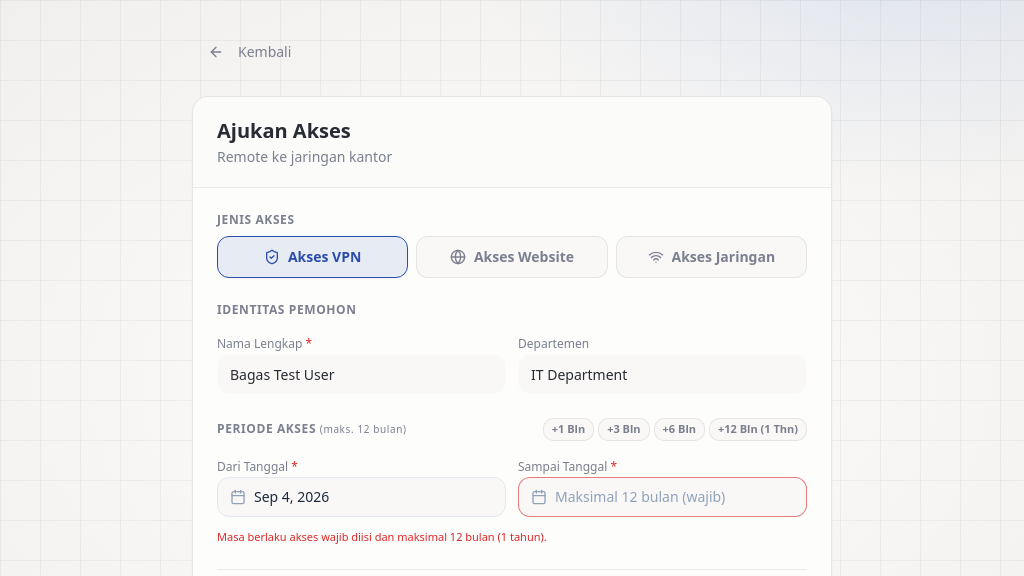
Test case: EformAccessCreatePage › supports quick duration presets for access period and enforces 12-month max on VPN
This screenshot has width=1024, height=576.
Check: the button "+1 Bln" is shown, box x1=543 y1=418 x2=594 y2=440
Check: the button "+3 Bln" is shown, box x1=598 y1=418 x2=650 y2=440
# Click +12 Bln (1 Thn)
Step 1. Click the button "+12 Bln (1 Thn)" → (758, 429), box x1=709 y1=418 x2=807 y2=440
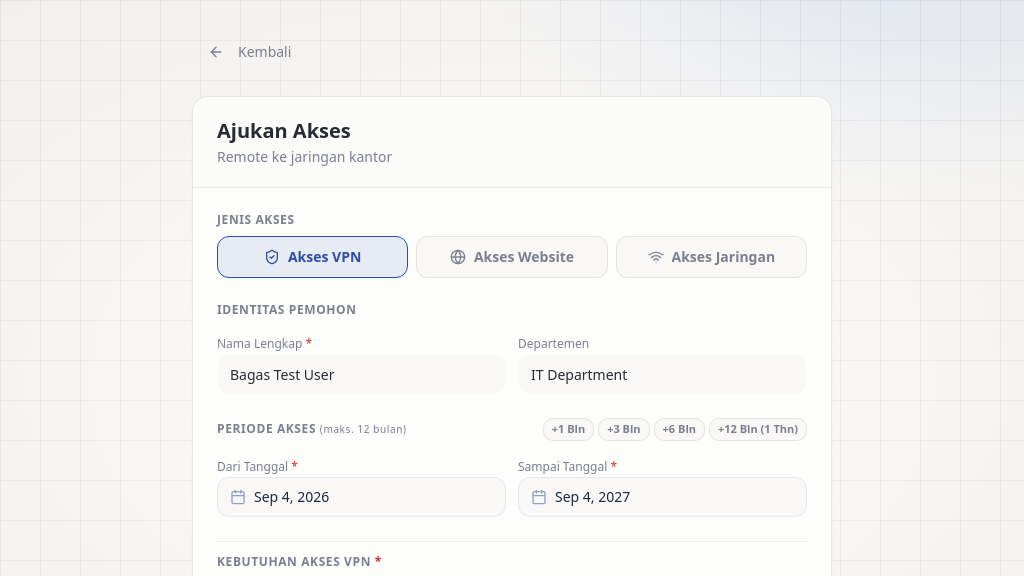
# Switch to Website
Step 2. Click the button "Akses Website" → (512, 257), box x1=416 y1=236 x2=608 y2=278
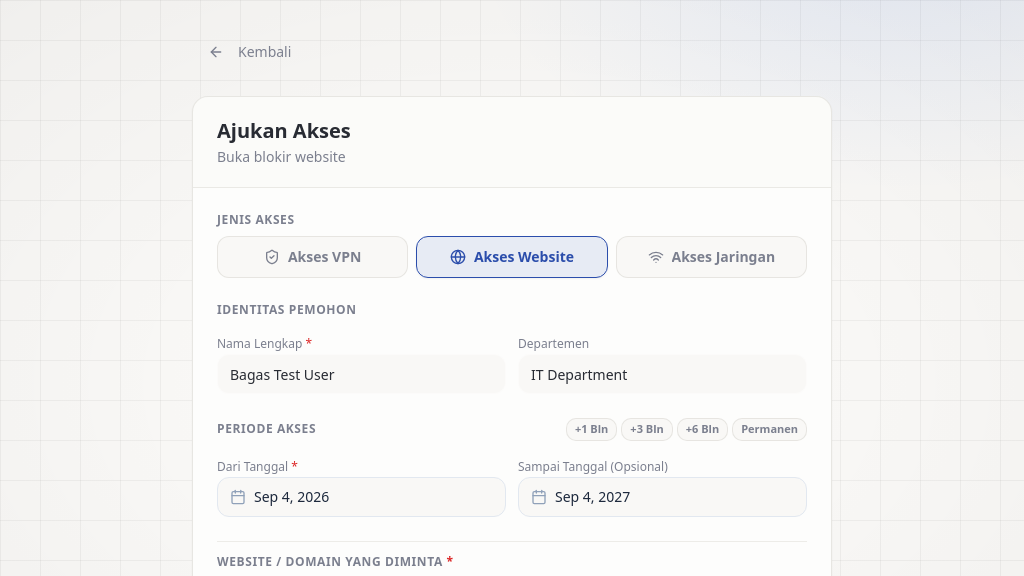
Check: the button "Permanen" is shown
Step 3. Click the button "Permanen" → (770, 429), box x1=732 y1=418 x2=807 y2=440
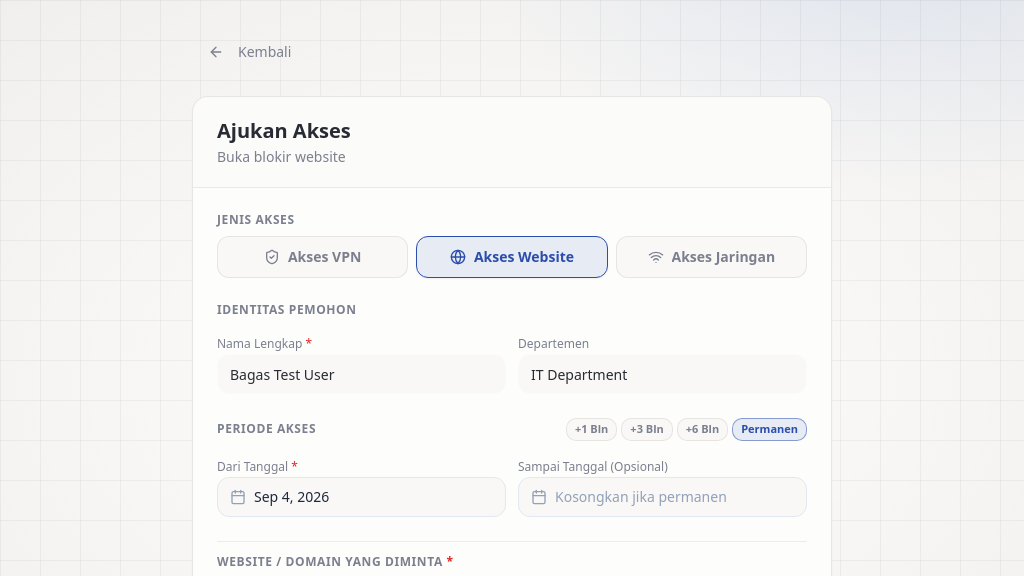
Check: the text "Kosongkan jika permanen" is shown, box x1=555 y1=486 x2=727 y2=506
